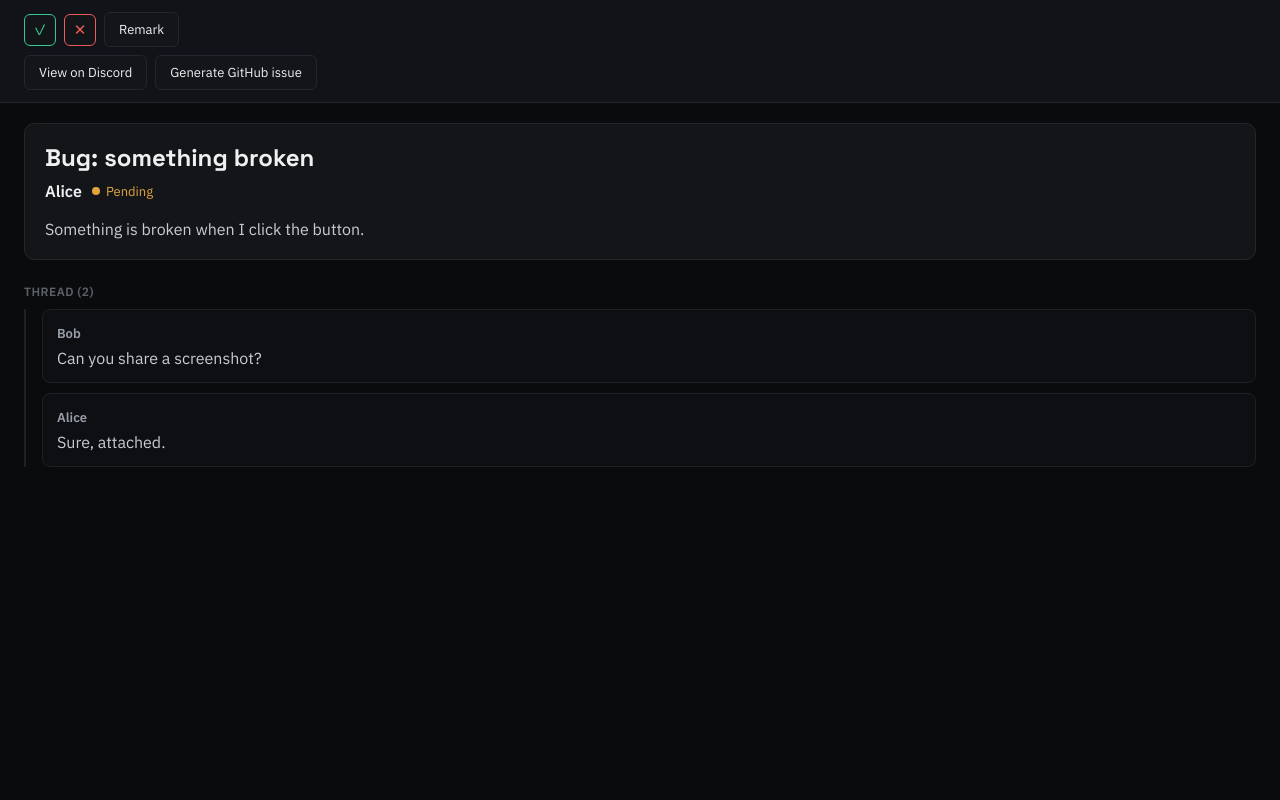
PostDetail — standalone remark › clicking Remark reveals an empty remark textarea and a Send button
This screenshot has width=1280, height=800.
Click the button "Remark" at point(142, 30), box 104,12 -> 179,47
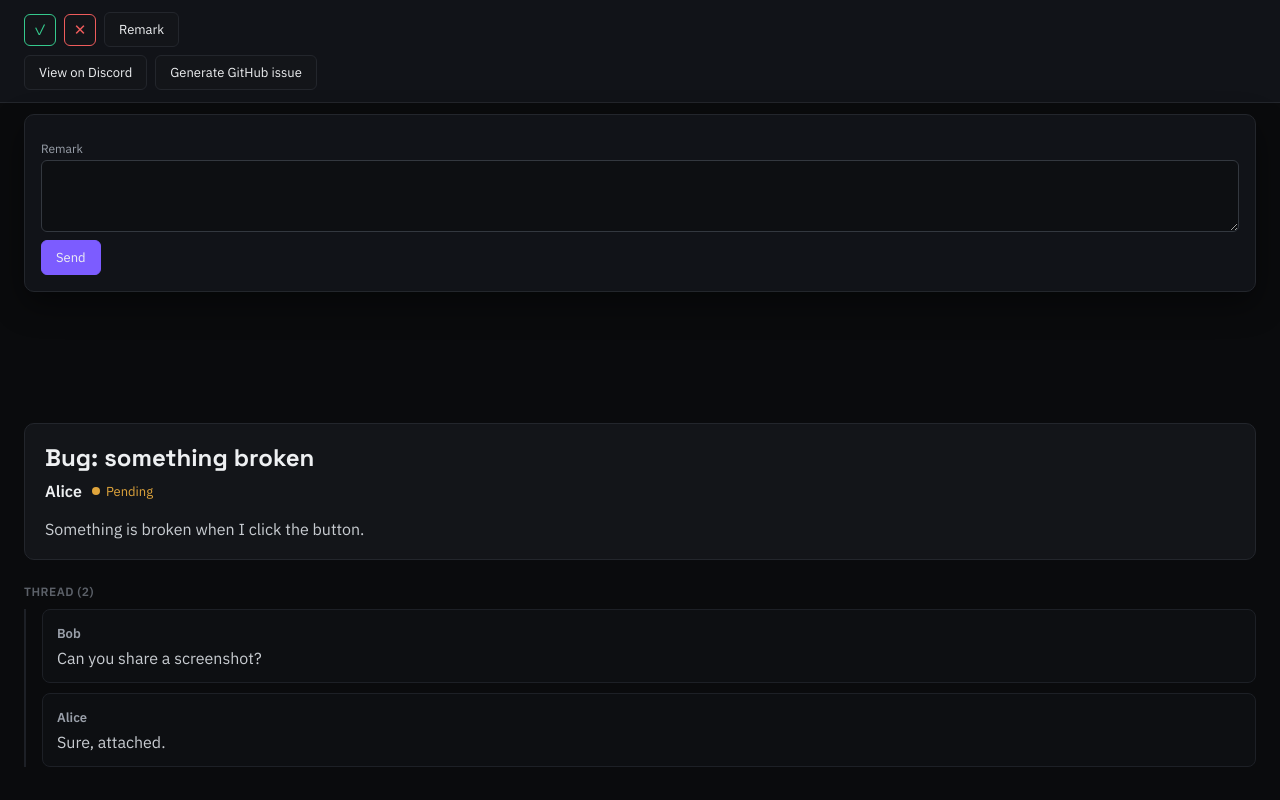
Result: the text box labelled "Remark" is empty at 41,160 -> 1239,232
Result: the button "Send" is shown at 41,240 -> 101,275
